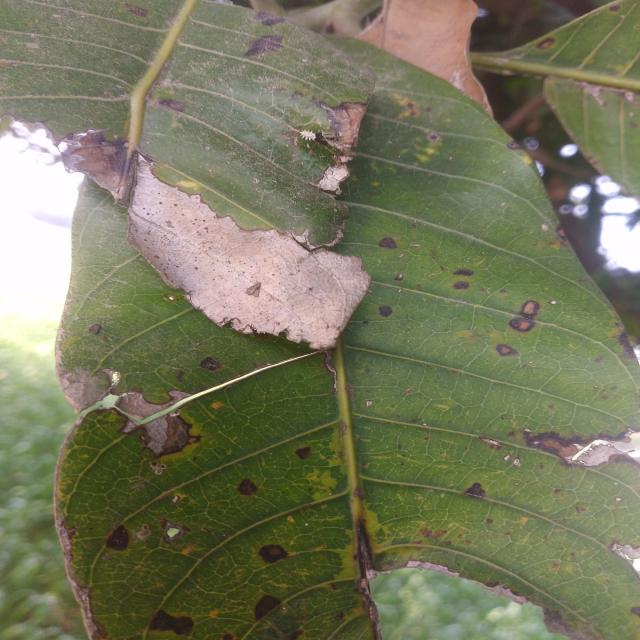Anthracnose: (245, 538, 306, 581), (98, 523, 146, 569), (503, 293, 549, 335), (449, 265, 476, 297)
Bacterial Cancer: (36, 79, 374, 379)
black die: (237, 472, 266, 507), (372, 302, 397, 323)
